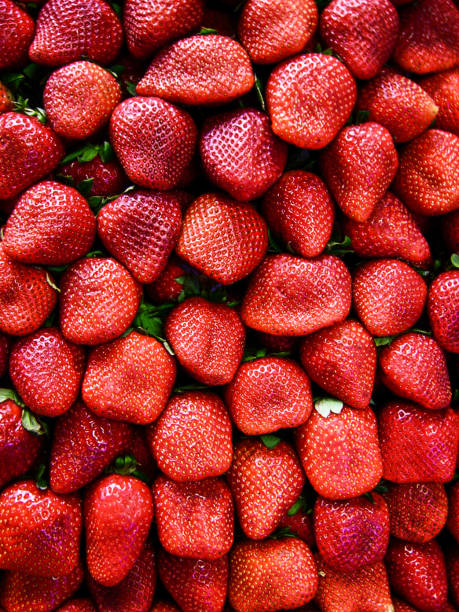Fresa: (79, 320, 179, 430), (240, 247, 354, 340), (136, 27, 258, 112), (297, 389, 386, 505), (263, 44, 359, 151), (177, 183, 272, 289), (107, 93, 202, 195), (83, 459, 157, 589), (197, 98, 289, 201), (148, 382, 239, 484), (147, 466, 236, 567), (2, 176, 98, 269), (94, 185, 182, 286), (256, 162, 340, 265), (56, 255, 147, 350), (2, 475, 85, 579), (164, 289, 248, 387), (222, 528, 320, 612), (222, 347, 314, 435), (331, 117, 404, 227), (229, 440, 307, 542), (7, 325, 87, 422), (303, 316, 381, 411), (309, 486, 391, 571), (43, 60, 126, 143), (376, 406, 459, 485), (319, 1, 404, 78), (1, 108, 68, 201), (356, 251, 427, 338), (381, 330, 459, 409), (27, 4, 125, 66), (358, 68, 439, 141), (398, 126, 459, 215), (351, 192, 431, 255), (389, 536, 452, 608), (427, 258, 459, 359)
